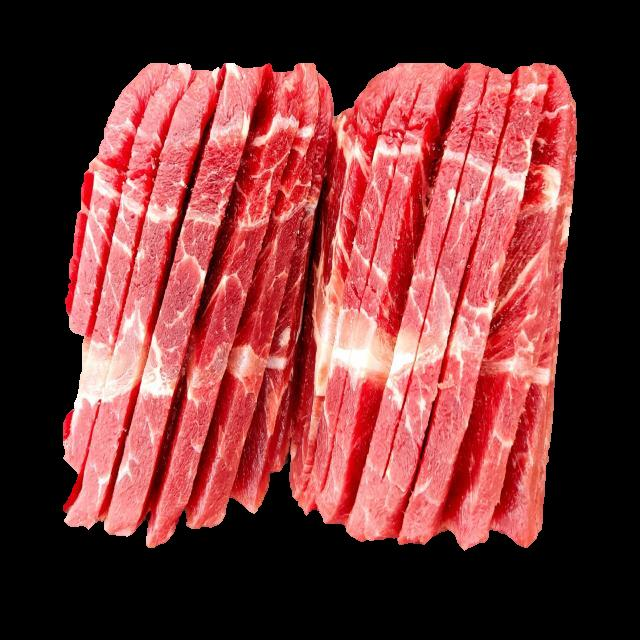beef: (328, 75, 560, 544), (88, 65, 304, 532)
